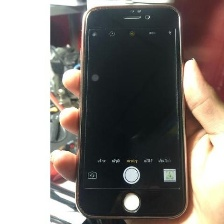phone: (72, 1, 192, 223)
